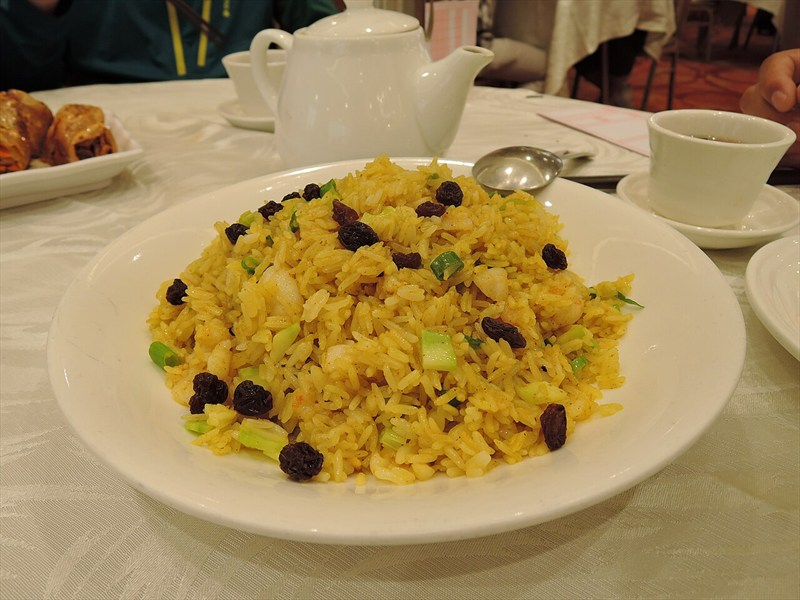Nasi Goreng: (132, 44, 633, 476)
